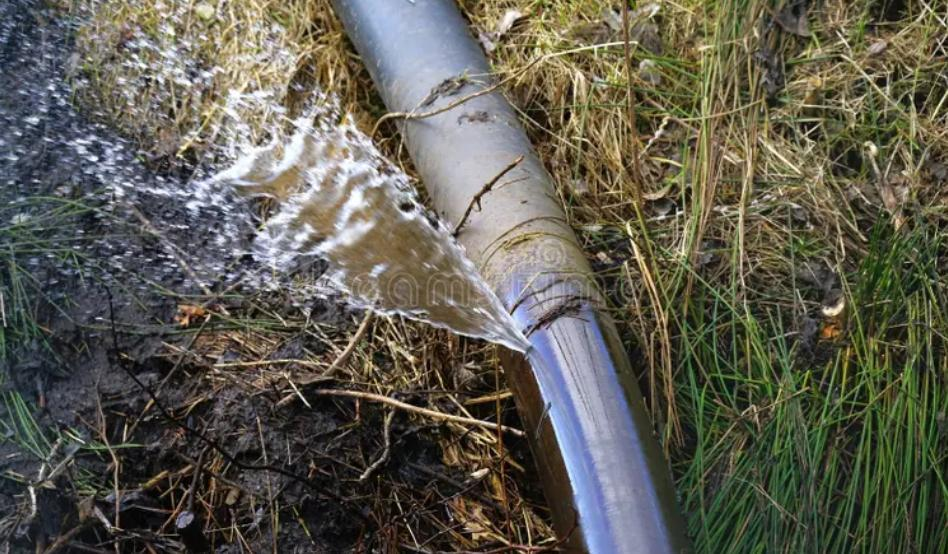pipe burst: (167, 71, 539, 366)
